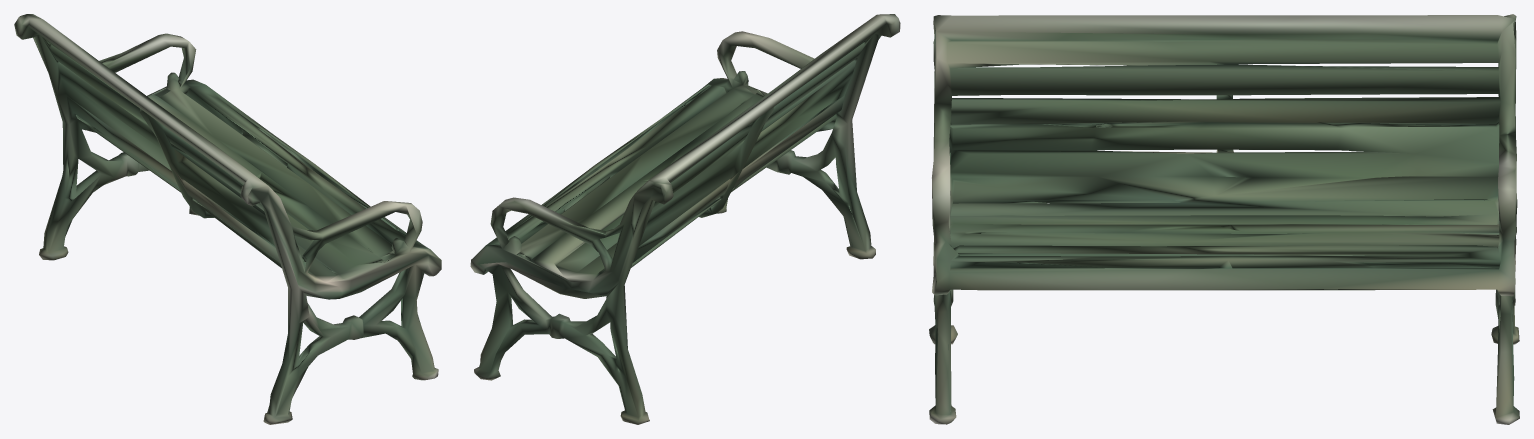
The model's file is bench.glb.
The picture shows the model from 3 angles, left to right: view 1: azimuth 30°, elevation 25°; view 2: azimuth 150°, elevation 25°; view 3: azimuth 270°, elevation 25°; orthographic projection. The views are drawn at different scales.
Parts seen in each view (by area): view 1: world; view 2: world; view 3: world.
Part boxes in pixels (x1,y1,x2,y2): world: (14,14,441,424); world: (470,14,900,424); world: (929,14,1519,424).
Bounding box in the file's own units: 1.07 × 1.25 × 2.18.
